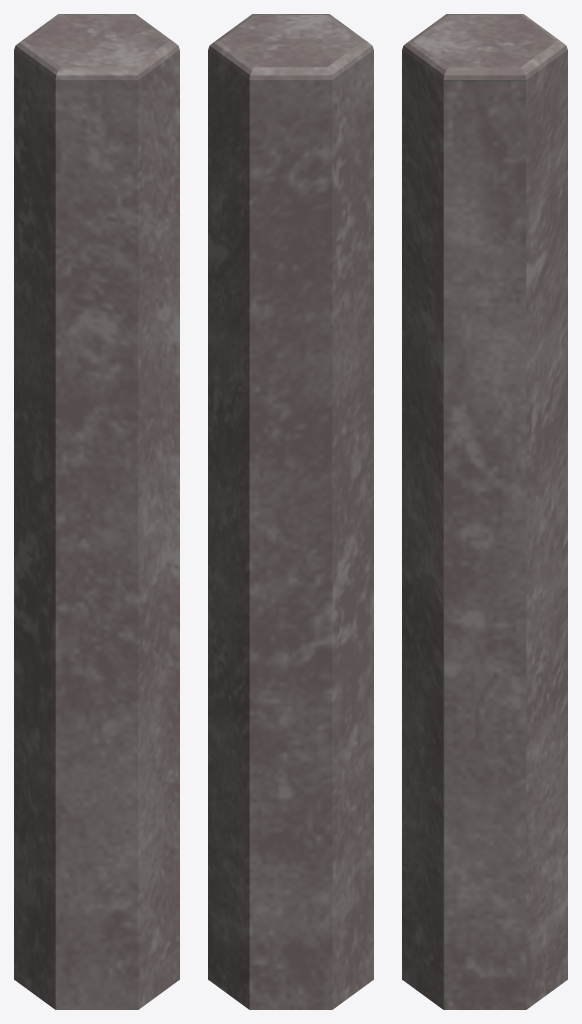
File: pilier_4.gltf
The picture shows the model from 3 angles, left to right: view 1: azimuth 30°, elevation 25°; view 2: azimuth 150°, elevation 25°; view 3: azimuth 270°, elevation 25°; orthographic projection.
Parts seen in each view (by area): view 1: Cylinder.002; view 2: Cylinder.002; view 3: Cylinder.002.
Boxes of the visible parts, x1,y1,x2,y2 form: Cylinder.002: (14,14,179,1009); Cylinder.002: (208,14,373,1009); Cylinder.002: (402,14,567,1009).
Bounding box in the file's own units: 0.1386 × 1 × 0.16.
1 material, 1 textured.
